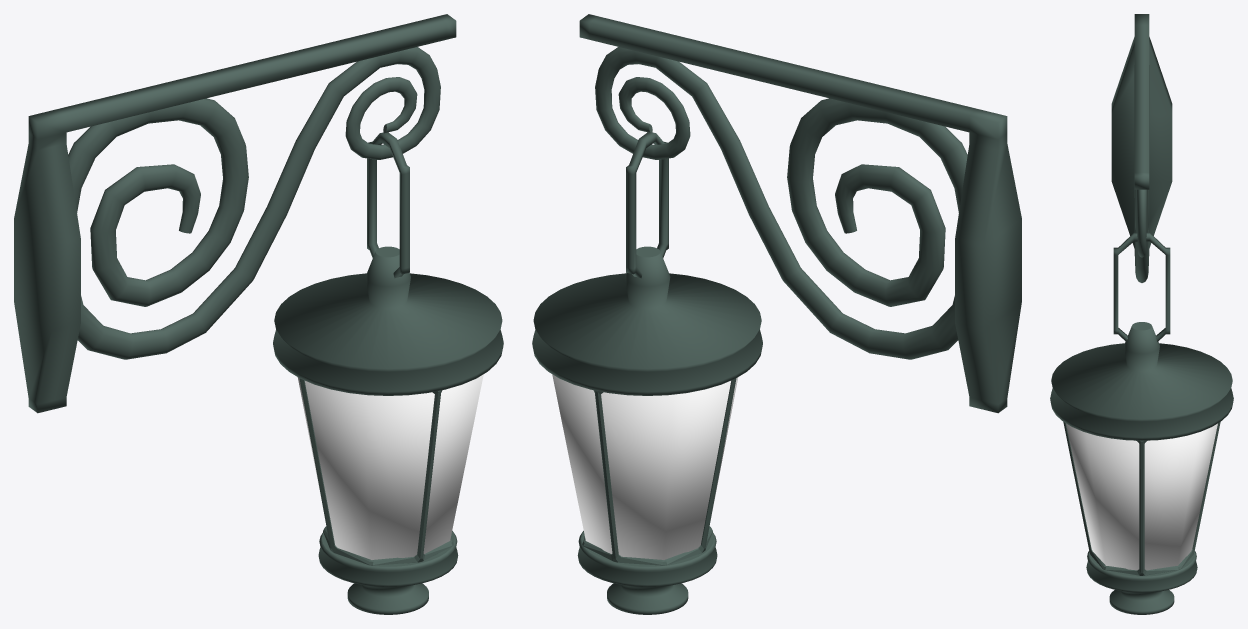
Rendered from Wall light.glb.
3 renders of one model, left to right at view 1: azimuth 30°, elevation 25°; view 2: azimuth 150°, elevation 25°; view 3: azimuth 270°, elevation 25°, orthographic. The views are drawn at different scales.
Parts seen in each view (by area): view 1: Cube, Frame.001; view 2: Cube, Frame.001; view 3: Cube, Frame.001.
Boxes of the visible parts, x1,y1,x2,y2 form: Cube: [14, 14, 503, 614]; Frame.001: [297, 374, 483, 559]; Cube: [532, 14, 1021, 614]; Frame.001: [552, 374, 738, 559]; Cube: [1050, 14, 1233, 614]; Frame.001: [1066, 423, 1217, 570].
Size of the model in its own units: 3.31 by 3.95 by 1.45.
